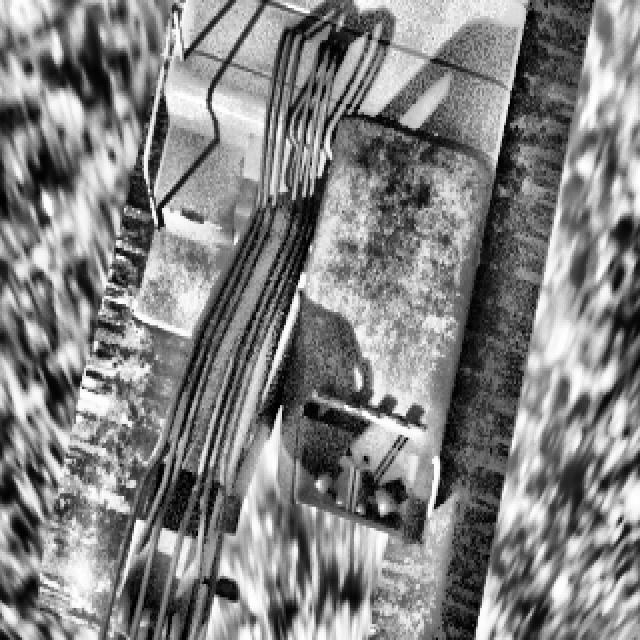excavator: (24, 0, 602, 640)
